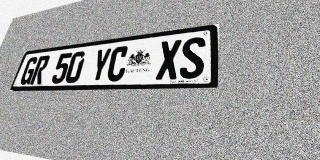0: (64, 51, 87, 83)
5: (50, 52, 73, 84)
C: (105, 45, 130, 82)
G: (18, 56, 39, 85)
R: (29, 55, 51, 84)
S: (179, 36, 206, 79)
X: (155, 39, 182, 80)
Y: (89, 48, 112, 82)
